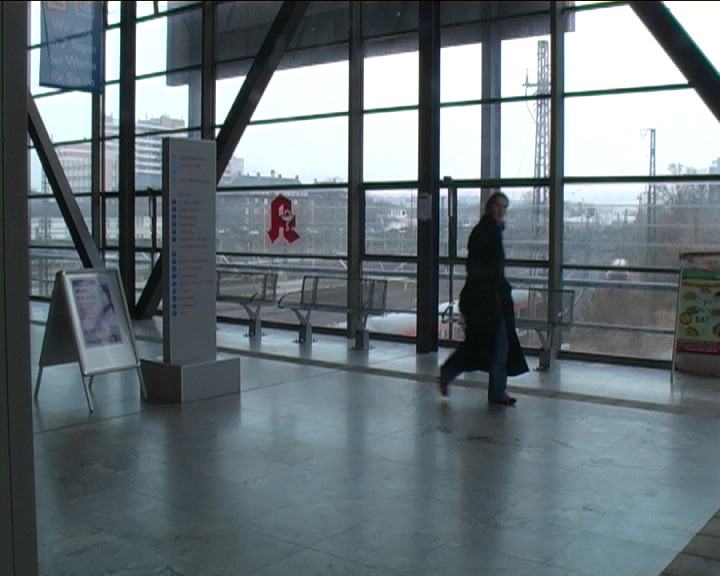deflection: (463, 188, 512, 288)
